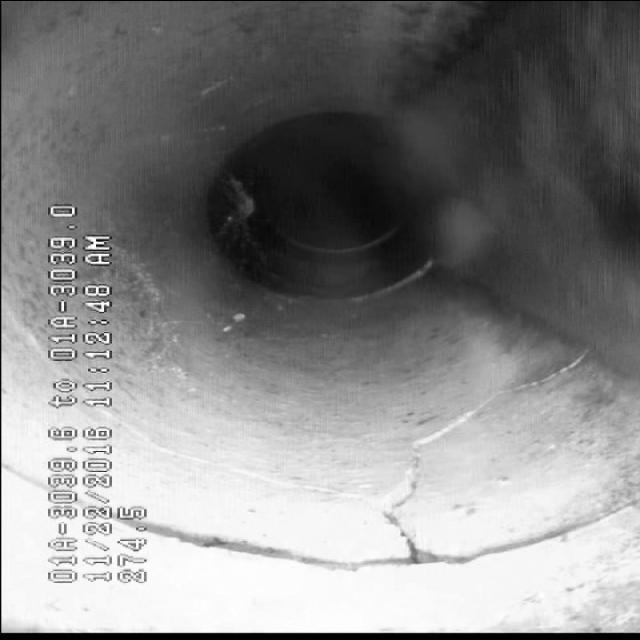Fracture: (239, 377, 594, 592)
